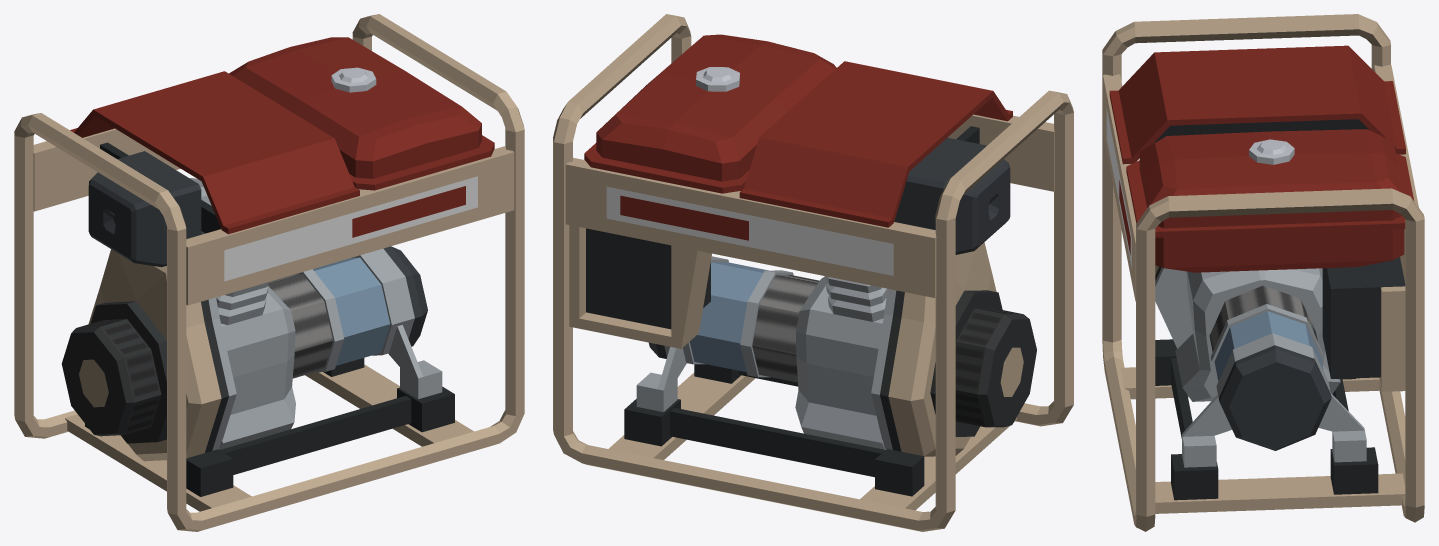
Rendered from eletronic.gltf.
3 views of the same model, side by side, from view 1: azimuth 30°, elevation 25°; view 2: azimuth 150°, elevation 25°; view 3: azimuth 270°, elevation 25° (orthographic). The views are drawn at different scales.
Visible parts, largest first — view 1: SM_Prop_Generator_Small_01; view 2: SM_Prop_Generator_Small_01; view 3: SM_Prop_Generator_Small_01.
Part boxes in pixels (left/top/right/bottom): SM_Prop_Generator_Small_01: left=14, top=14, right=524, bottom=531; SM_Prop_Generator_Small_01: left=553, top=14, right=1073, bottom=531; SM_Prop_Generator_Small_01: left=1102, top=14, right=1424, bottom=531.
Bounding box in the file's own units: 0.6706 × 0.5613 × 0.4741.
Materials: 1 (1 with a texture image).
